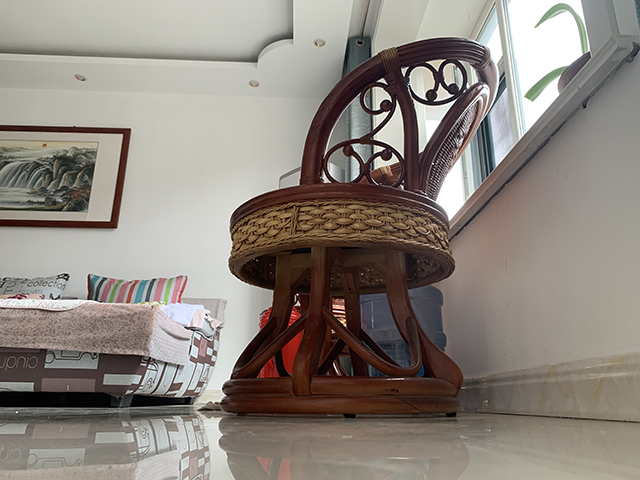sofa: (1, 271, 228, 410)
stool: (214, 34, 501, 419)
